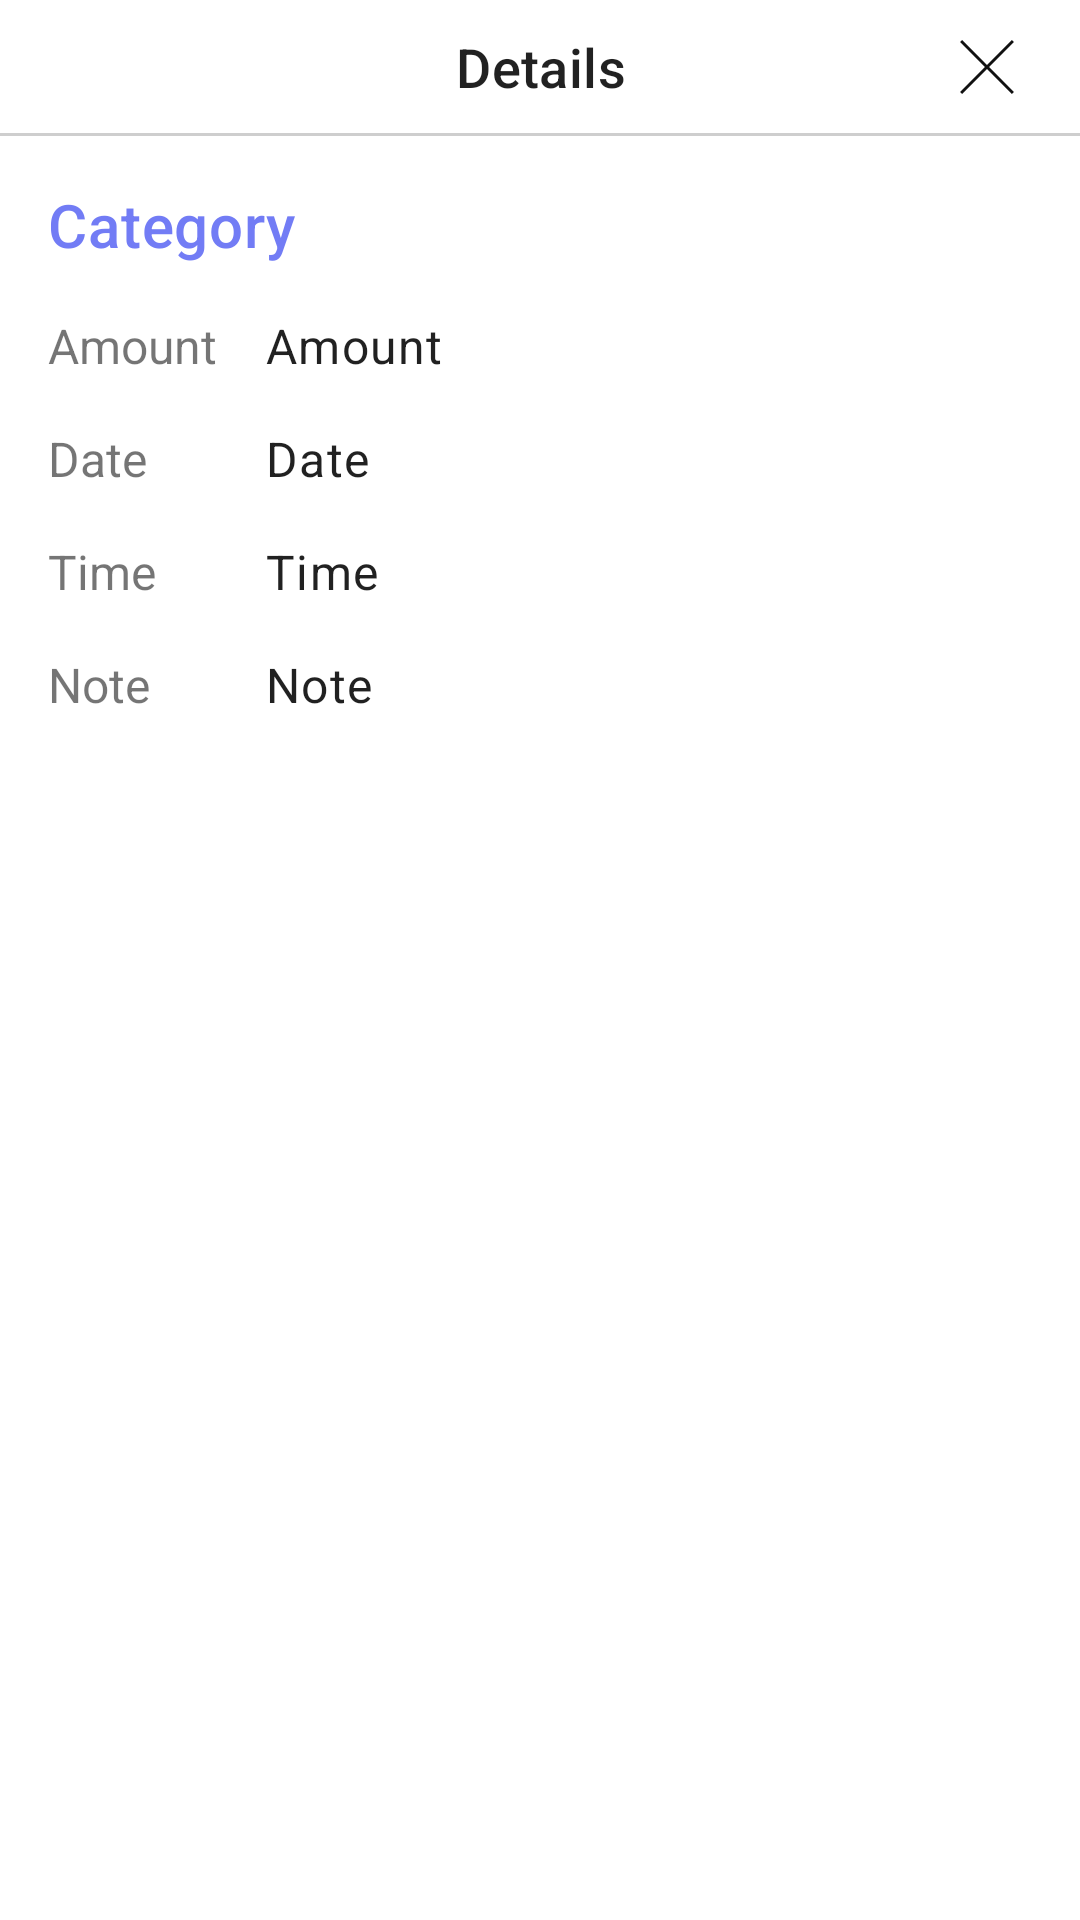

Where to tap for icons on this 1080px x 1920px app screen, as (x,y):
close: (987,67)
